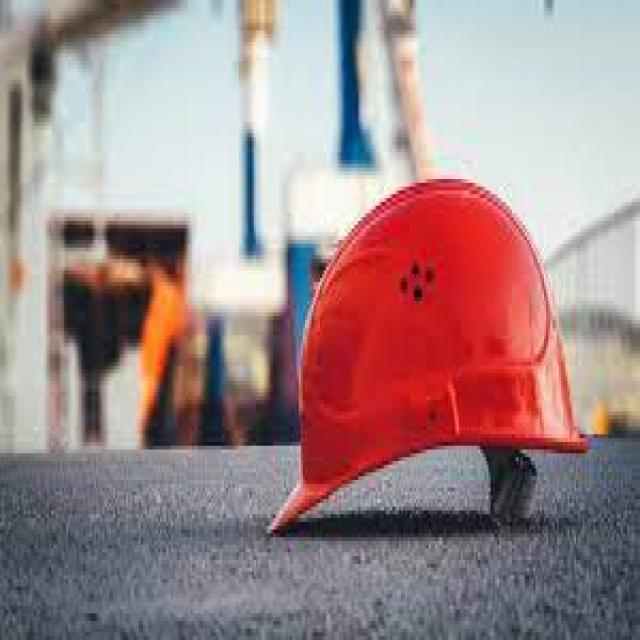Safety-Helmet: (265, 168, 612, 544)
